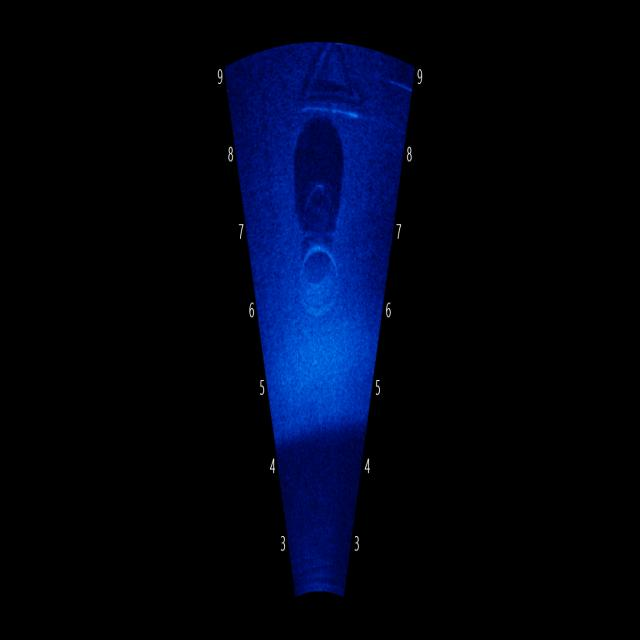circle: (292, 205, 350, 320)
triangle: (286, 36, 379, 136)
